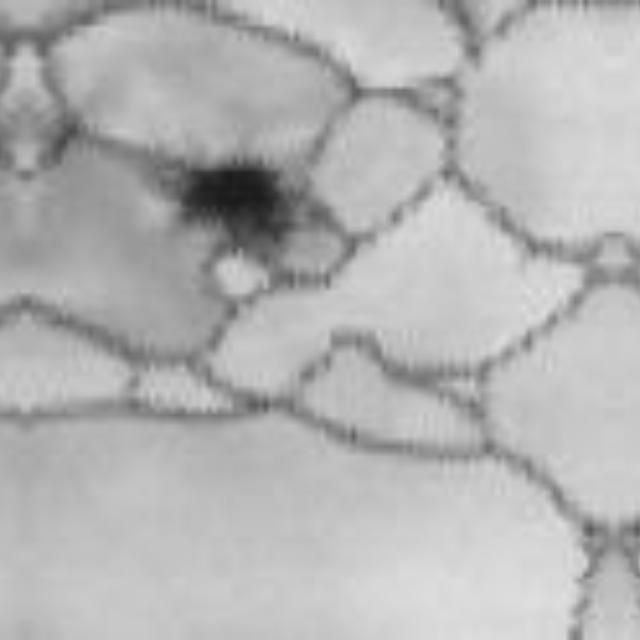good_void: (169, 158, 292, 255)
